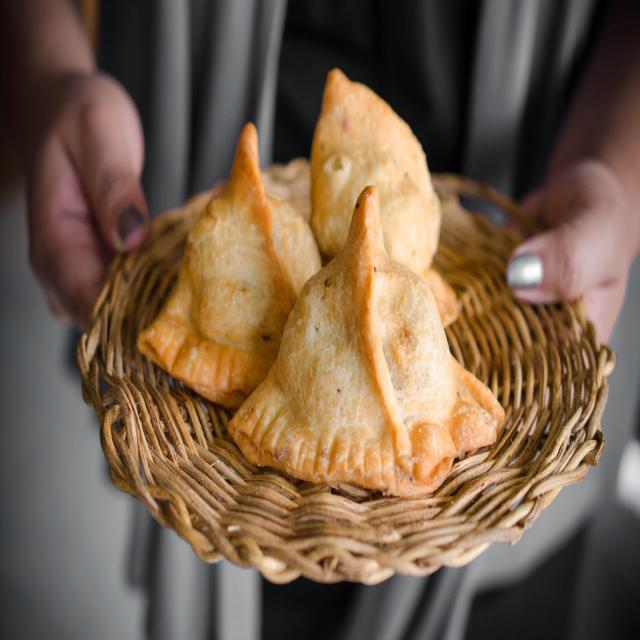samosa: (157, 49, 522, 483)
